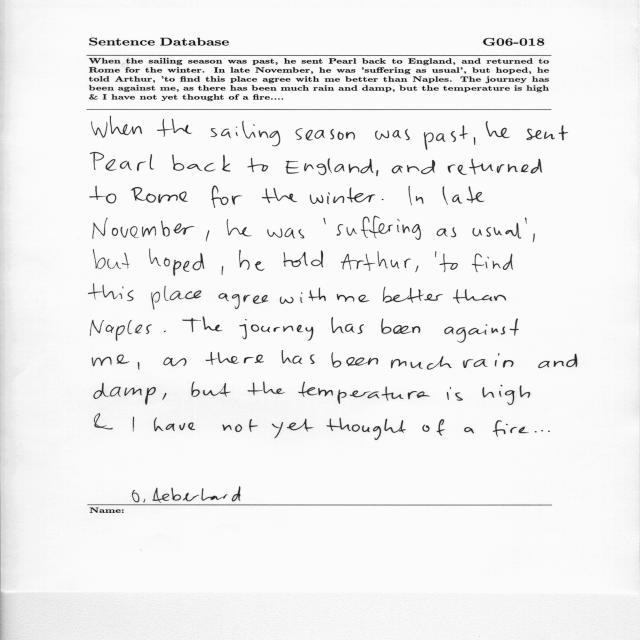word: (298, 382, 430, 404), (93, 217, 194, 239), (337, 216, 421, 240), (444, 319, 519, 343), (326, 418, 406, 440), (211, 121, 280, 146), (240, 319, 314, 341), (448, 159, 542, 175), (286, 158, 374, 175), (150, 249, 205, 276), (341, 251, 411, 271), (94, 383, 156, 405), (90, 320, 152, 341), (90, 152, 154, 171), (152, 286, 202, 310), (92, 116, 142, 138), (424, 125, 468, 150), (310, 188, 375, 204), (383, 286, 443, 303), (172, 155, 231, 172), (483, 385, 531, 405), (131, 187, 188, 203), (391, 356, 451, 370), (219, 293, 269, 309), (443, 186, 485, 205), (272, 419, 314, 438), (453, 289, 506, 304), (473, 223, 522, 239), (280, 287, 326, 304), (472, 254, 513, 273), (296, 128, 355, 141), (205, 352, 264, 365), (89, 284, 134, 301), (463, 353, 513, 368), (93, 249, 129, 269), (331, 353, 378, 368), (211, 186, 242, 208), (283, 251, 323, 268), (157, 119, 192, 137), (527, 126, 569, 141), (381, 318, 420, 334), (493, 420, 529, 437), (392, 160, 435, 174), (183, 317, 223, 332), (192, 382, 231, 397), (154, 418, 195, 432), (331, 317, 364, 334), (239, 250, 265, 271), (539, 354, 578, 368), (262, 188, 297, 203), (248, 382, 285, 395), (222, 419, 258, 432), (282, 350, 315, 364), (90, 186, 117, 203), (93, 355, 130, 367), (227, 219, 252, 236), (486, 121, 510, 138), (268, 228, 305, 239), (422, 419, 445, 436), (375, 129, 410, 140), (440, 254, 458, 272), (94, 414, 113, 430), (247, 158, 268, 172), (409, 186, 424, 205), (337, 294, 369, 302), (447, 387, 463, 401), (437, 227, 456, 238), (164, 357, 187, 366), (464, 427, 474, 433), (162, 393, 167, 400), (206, 231, 209, 242), (535, 430, 550, 432), (323, 218, 326, 225), (416, 266, 419, 273), (376, 170, 379, 176), (533, 234, 535, 243), (222, 266, 224, 275), (138, 362, 140, 370), (133, 417, 134, 432), (525, 218, 527, 224), (474, 137, 475, 145), (435, 252, 436, 258), (382, 199, 384, 200), (164, 331, 166, 332)
